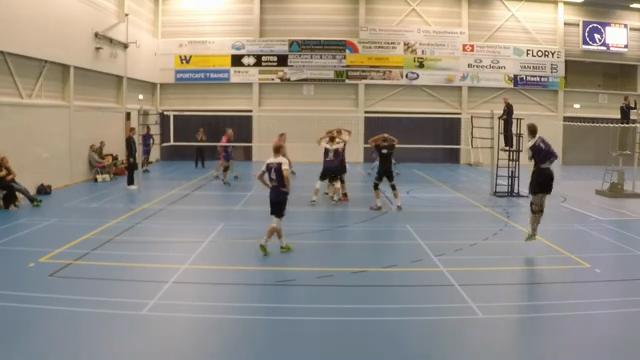battuta: (508, 119, 565, 242)
